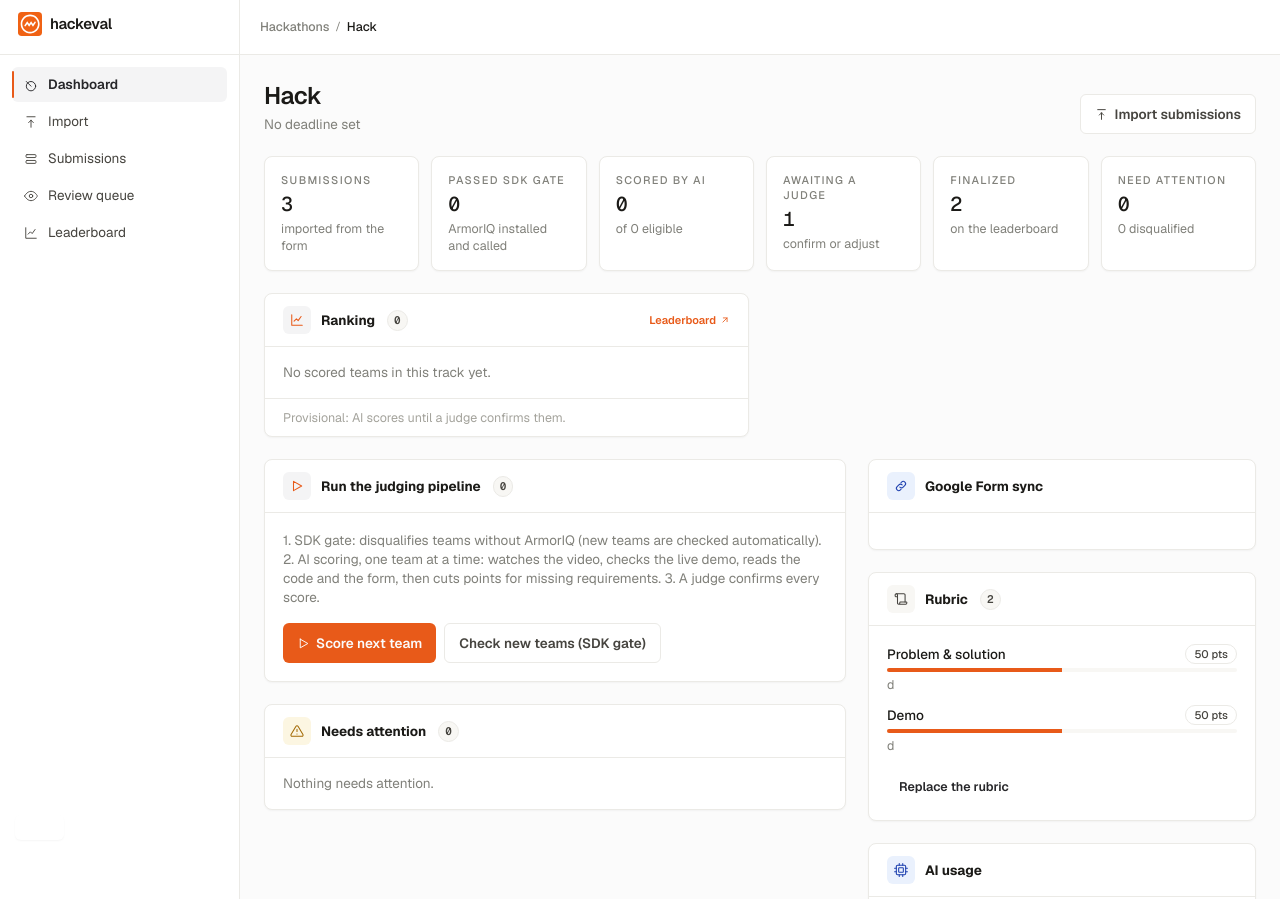
Scenario: dashboard › starts a run and follows it to completion
Click the button "Score next team" at coordinates (360, 643), box [283,623,436,663]
(page scrolled)
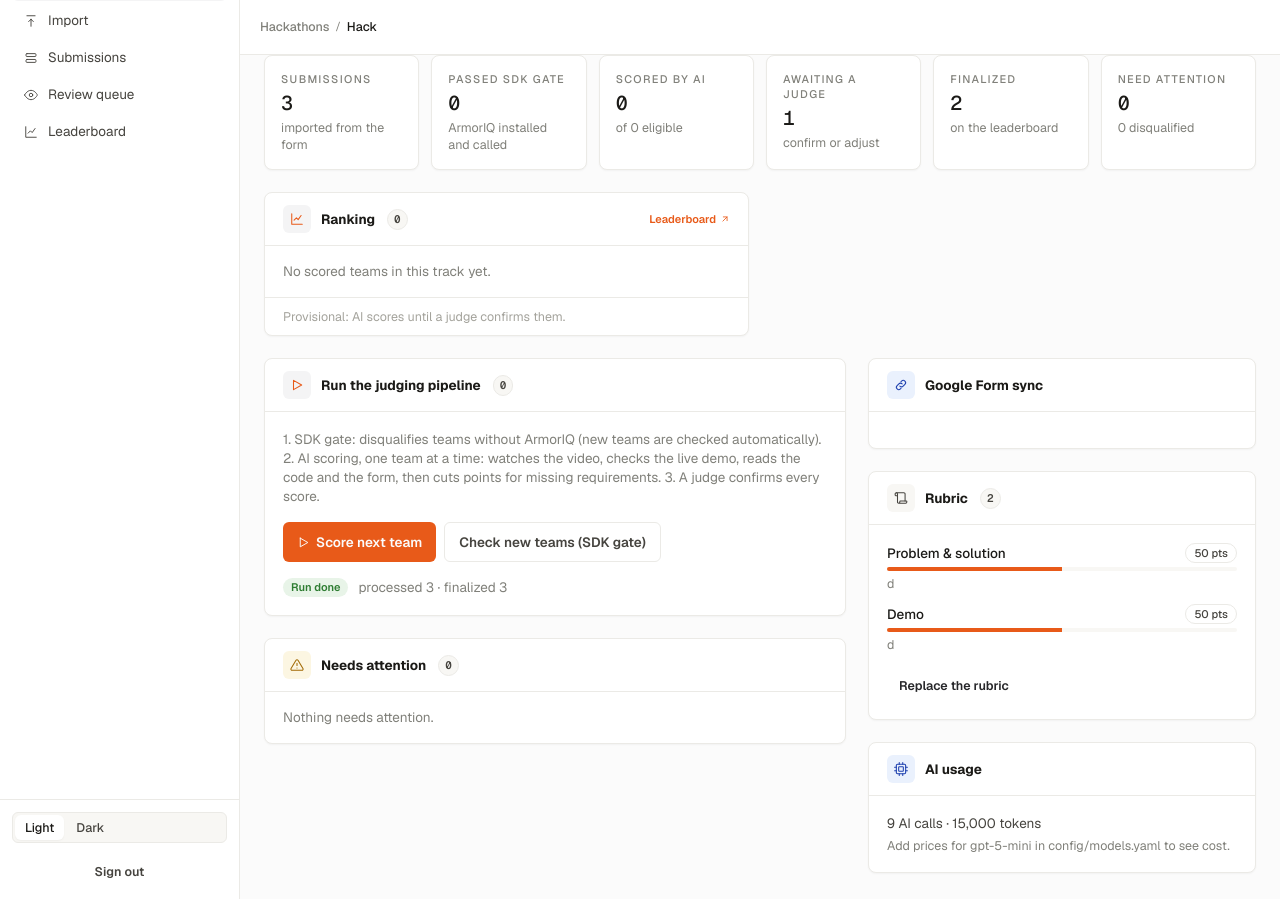
Expected: the text "Add prices for gpt-5-mini in config/models.yaml to see cost." is shown, [887,837,1237,854]
Expected: the text "Run done" is shown, [283,578,348,597]
Expected: the text "processed 3 · finalized 3" is shown, [358,578,507,597]
